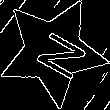N_NW: (21, 22, 85, 81)
